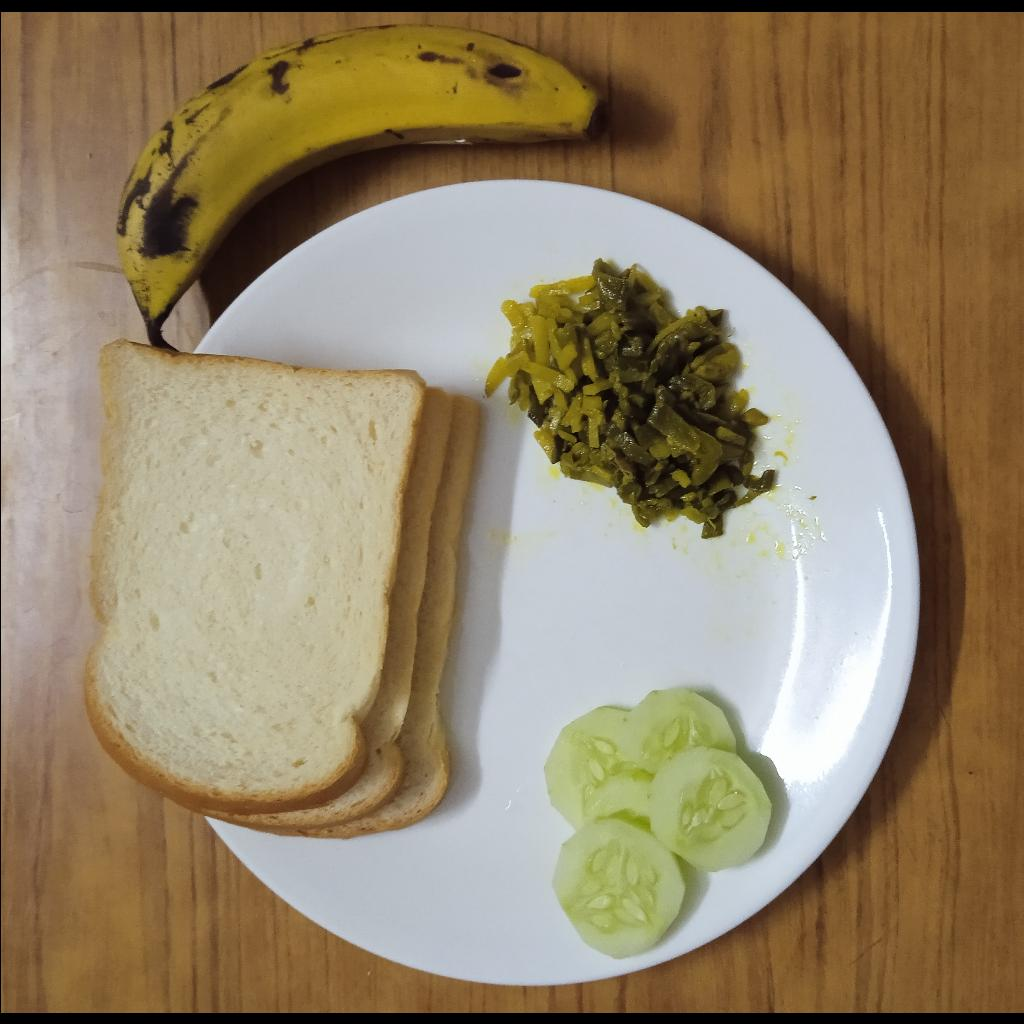banana: (114, 24, 606, 352)
bread: (83, 338, 482, 839)
cucumber: (543, 685, 770, 959)
vegetable: (485, 259, 777, 538)
